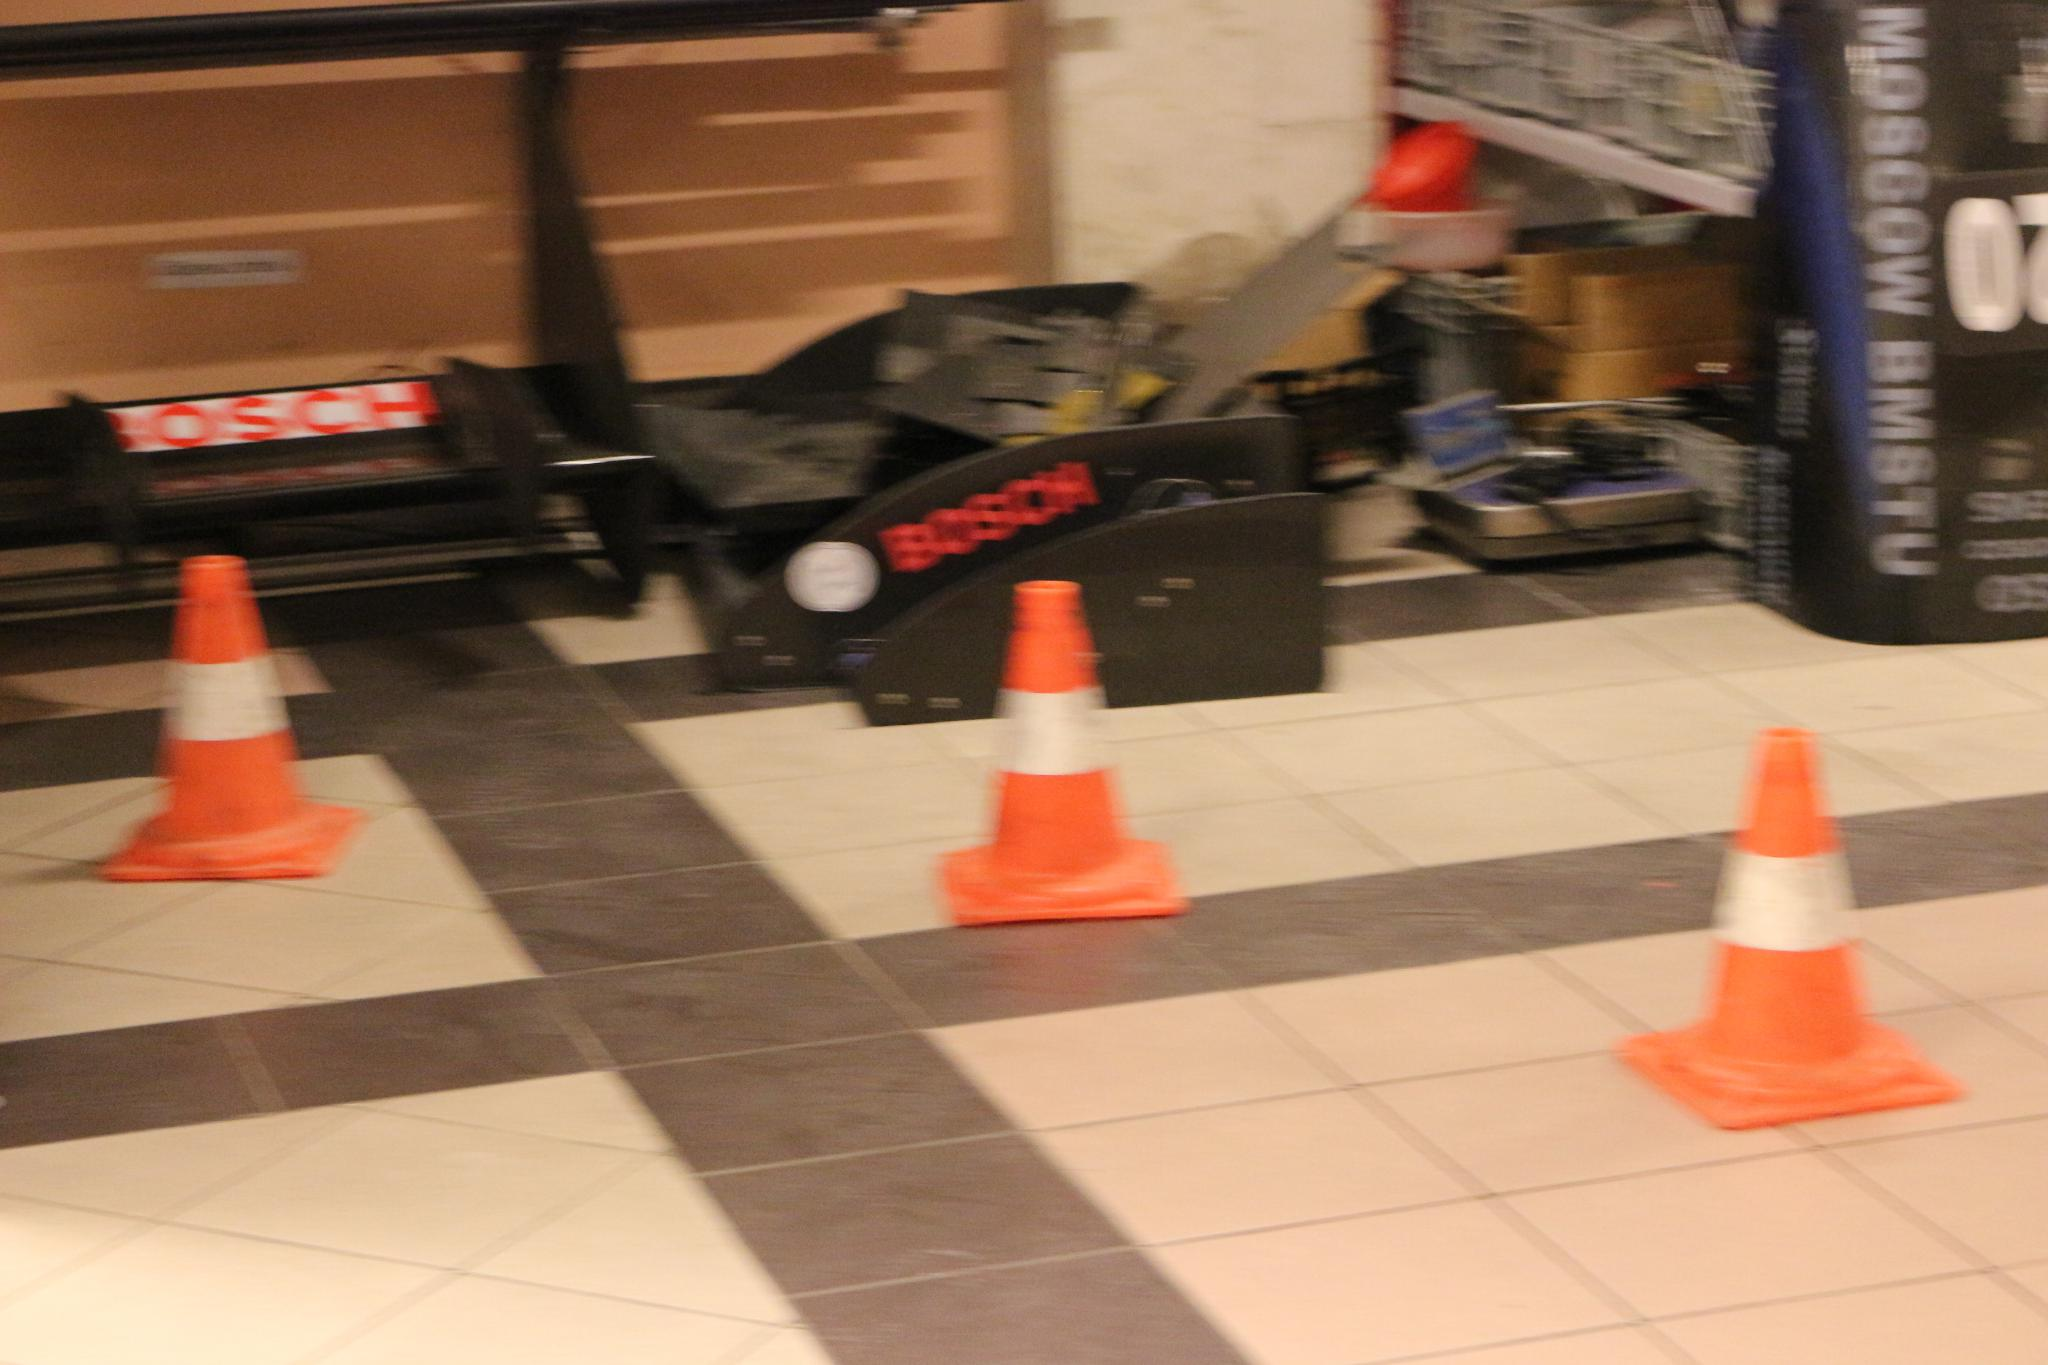Orange_Cone: (1641, 710, 1932, 1120), (947, 571, 1192, 926), (104, 545, 346, 882)
